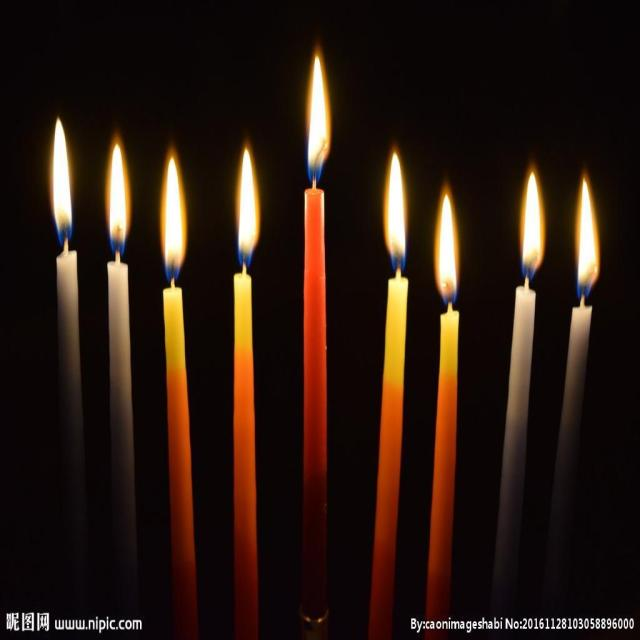fire: (294, 47, 344, 200), (220, 132, 270, 276), (37, 108, 84, 248), (152, 148, 198, 280), (380, 129, 418, 284), (94, 127, 136, 257), (515, 154, 552, 288), (568, 166, 604, 302), (432, 173, 460, 313)
